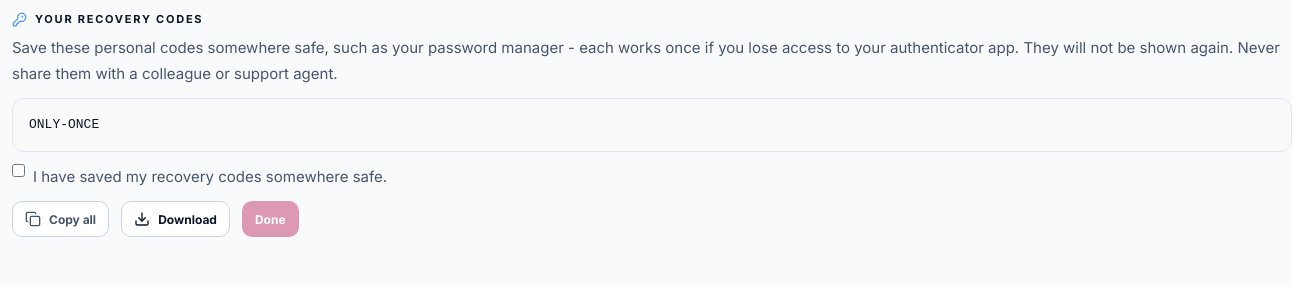
Scenario: personal MFA setup and recovery codes › shows a copy error without pretending the codes were saved
The image size is (1292, 287).
Click the button "Copy all". click: (61, 219)
box: x1=12 y1=201 x2=109 y2=237
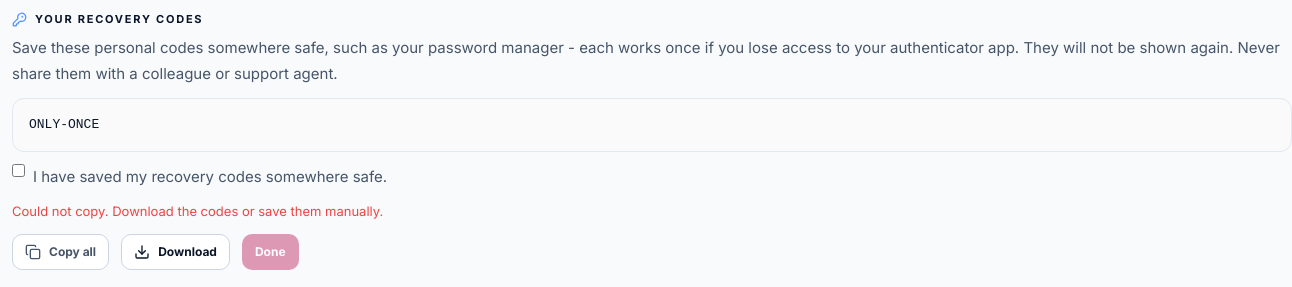
Expected: the button "Done" is disabled, x1=242 y1=234 x2=299 y2=270
Now the message "Could not copy. Download the codes or save them manually." is shown, box x1=12 y1=203 x2=383 y2=219
